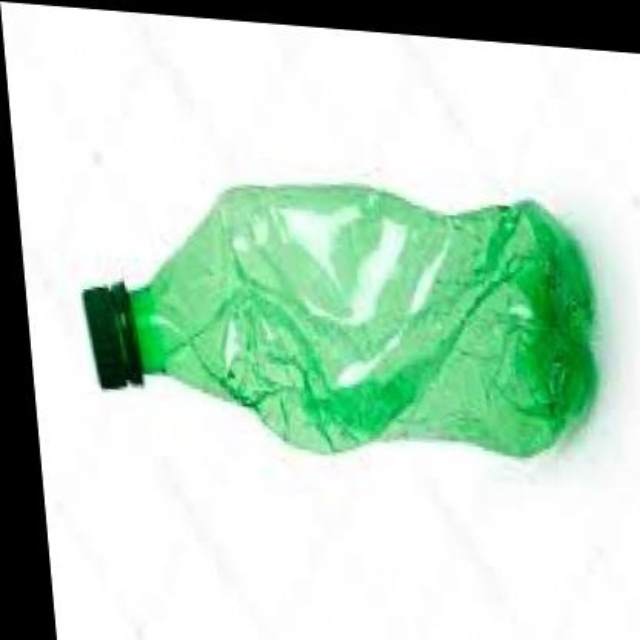trash: (83, 185, 595, 454)
